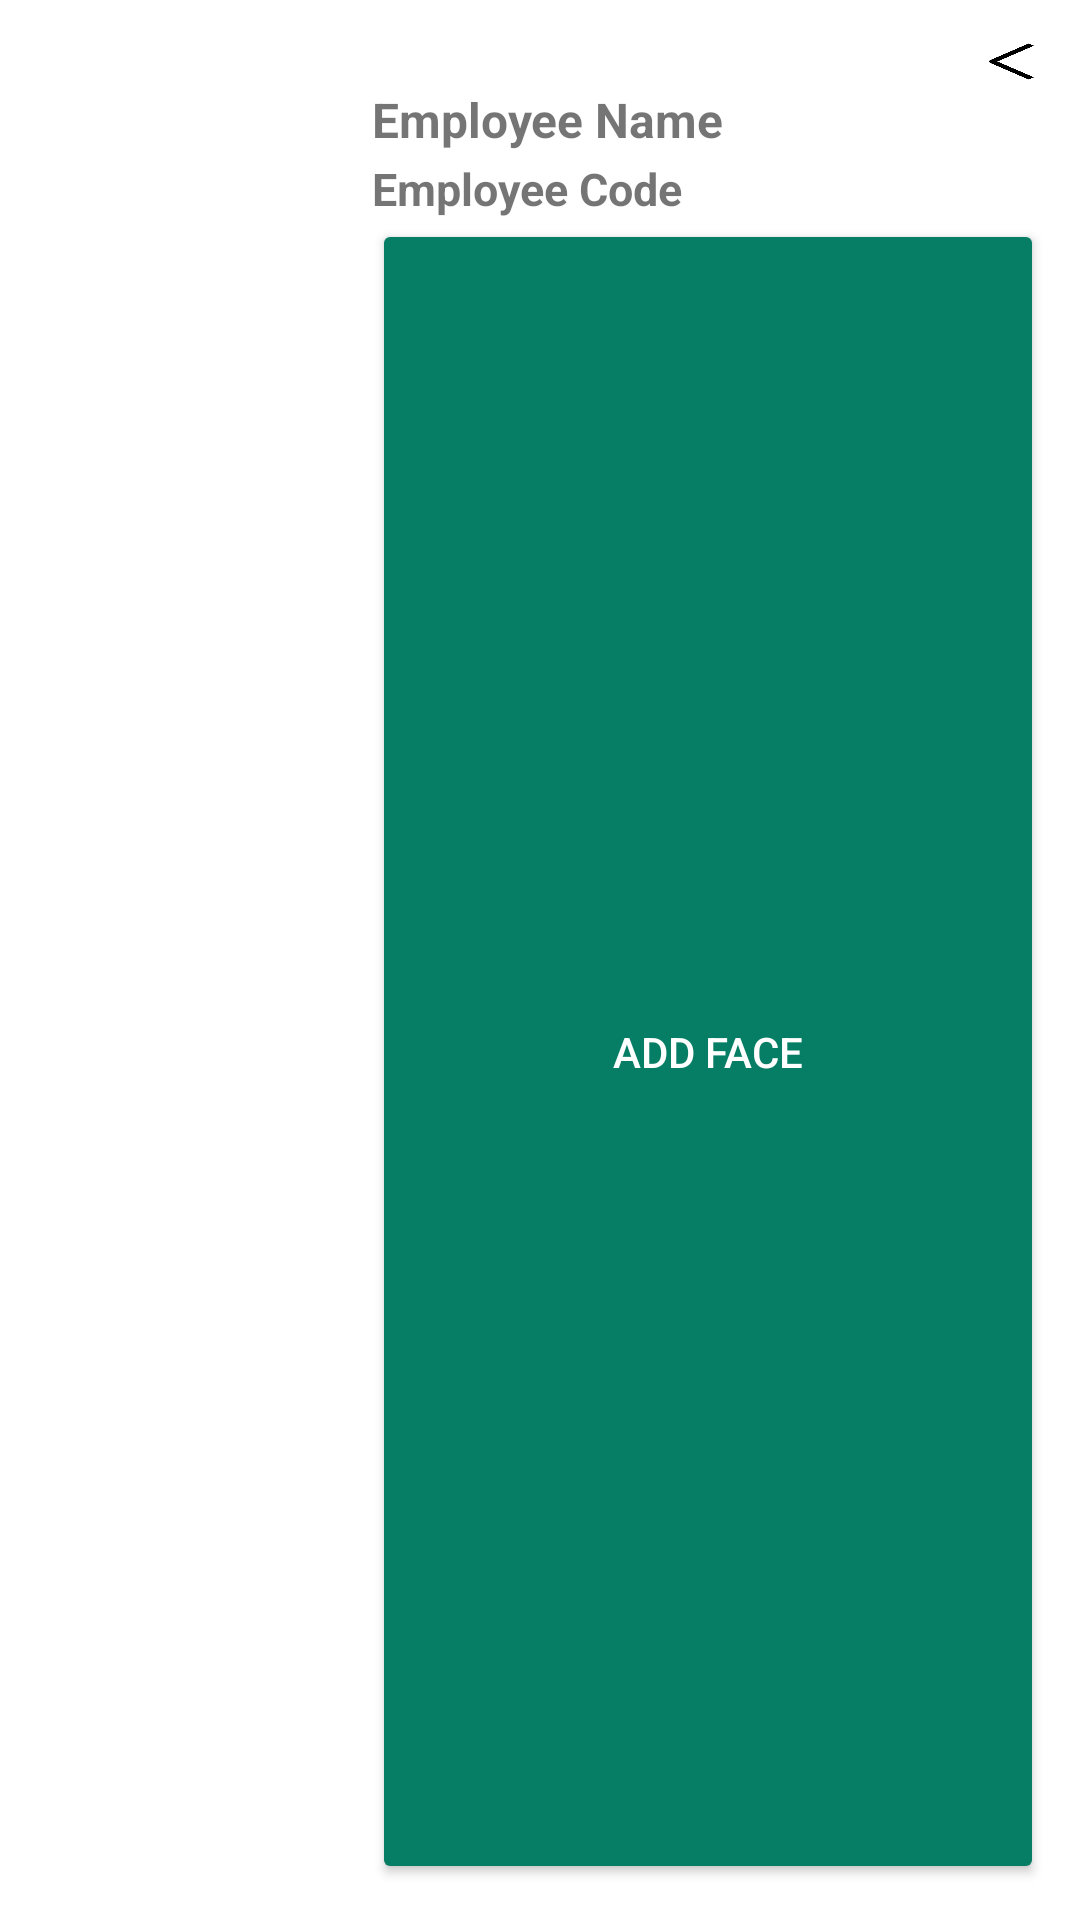

Named icons in this screenshot (1080w x 1920h) and their bounding boxes, (x1, y1, x2, y2):
back: (989, 43, 1034, 80)
